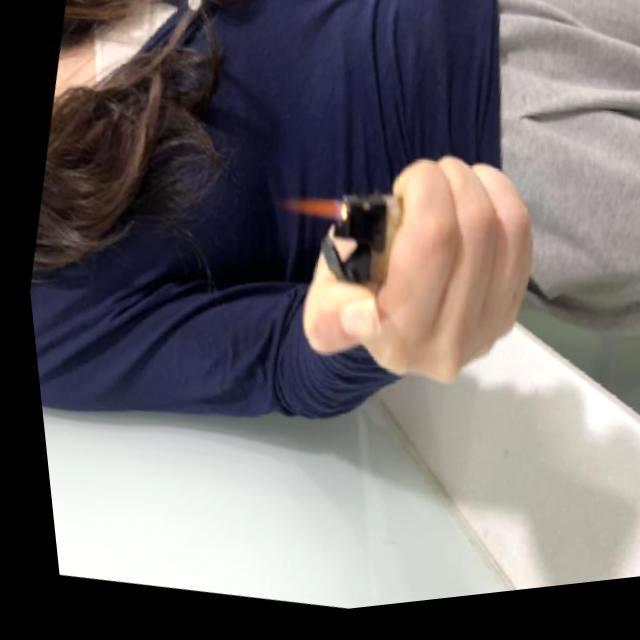fire: (271, 194, 345, 236)
